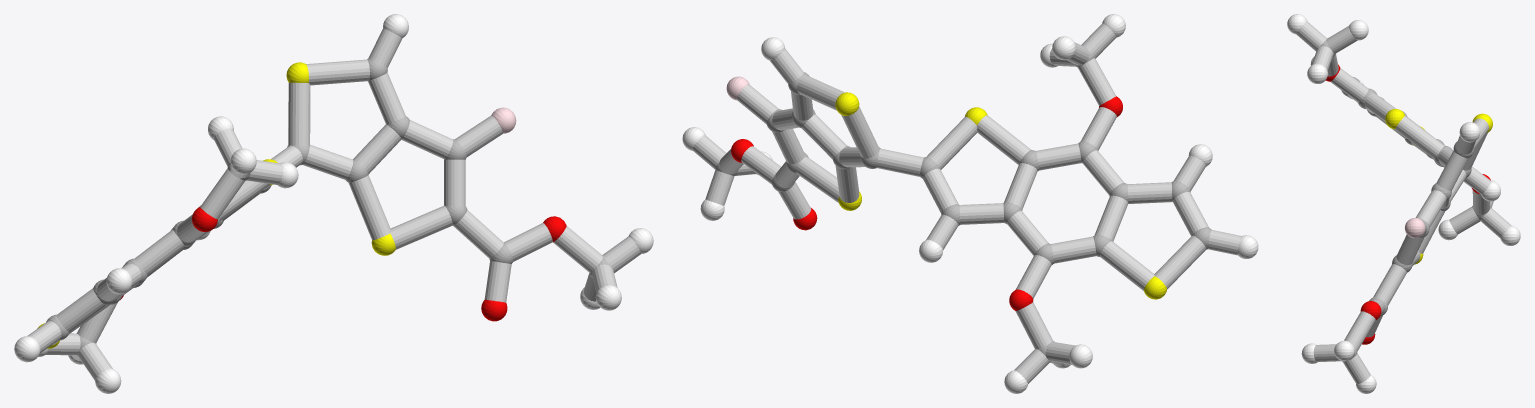
The model's file is Dimethoxy_Benzodithiophene_Phi_30_Theta_100_Methylcarbonyl_3_Fluoro_Thienothiophene.glb.
3 views of the same model, side by side, from view 1: azimuth 30°, elevation 25°; view 2: azimuth 150°, elevation 25°; view 3: azimuth 270°, elevation 25° (orthographic). The views are drawn at different scales.
Visible parts, largest first — view 1: grp15205, grp8689, grp1, grp13395, grp7241; view 2: grp15205, grp8689, grp1, grp7241, grp13395; view 3: grp15205, grp8689, grp1, grp7241, grp13395, grp14843.
Boxes of the visible parts, <box> form: grp15205: <box>27,28,641,380</box>; grp8689: <box>14,14,653,393</box>; grp1: <box>46,58,610,356</box>; grp13395: <box>120,207,566,321</box>; grp7241: <box>37,62,395,348</box>; grp15205: <box>692,23,1241,383</box>; grp8689: <box>682,14,1258,393</box>; grp1: <box>715,50,1211,362</box>; grp7241: <box>835,92,1166,299</box>; grp13395: <box>731,96,1122,310</box>; grp15205: <box>1296,21,1511,383</box>; grp8689: <box>1287,14,1520,393</box>; grp1: <box>1320,40,1491,361</box>; grp7241: <box>1385,109,1492,264</box>; grp13395: <box>1325,64,1490,344</box>; grp14843: <box>1404,218,1425,238</box>.
Size of the model in its own units: 16.63 by 7.71 by 6.76.
